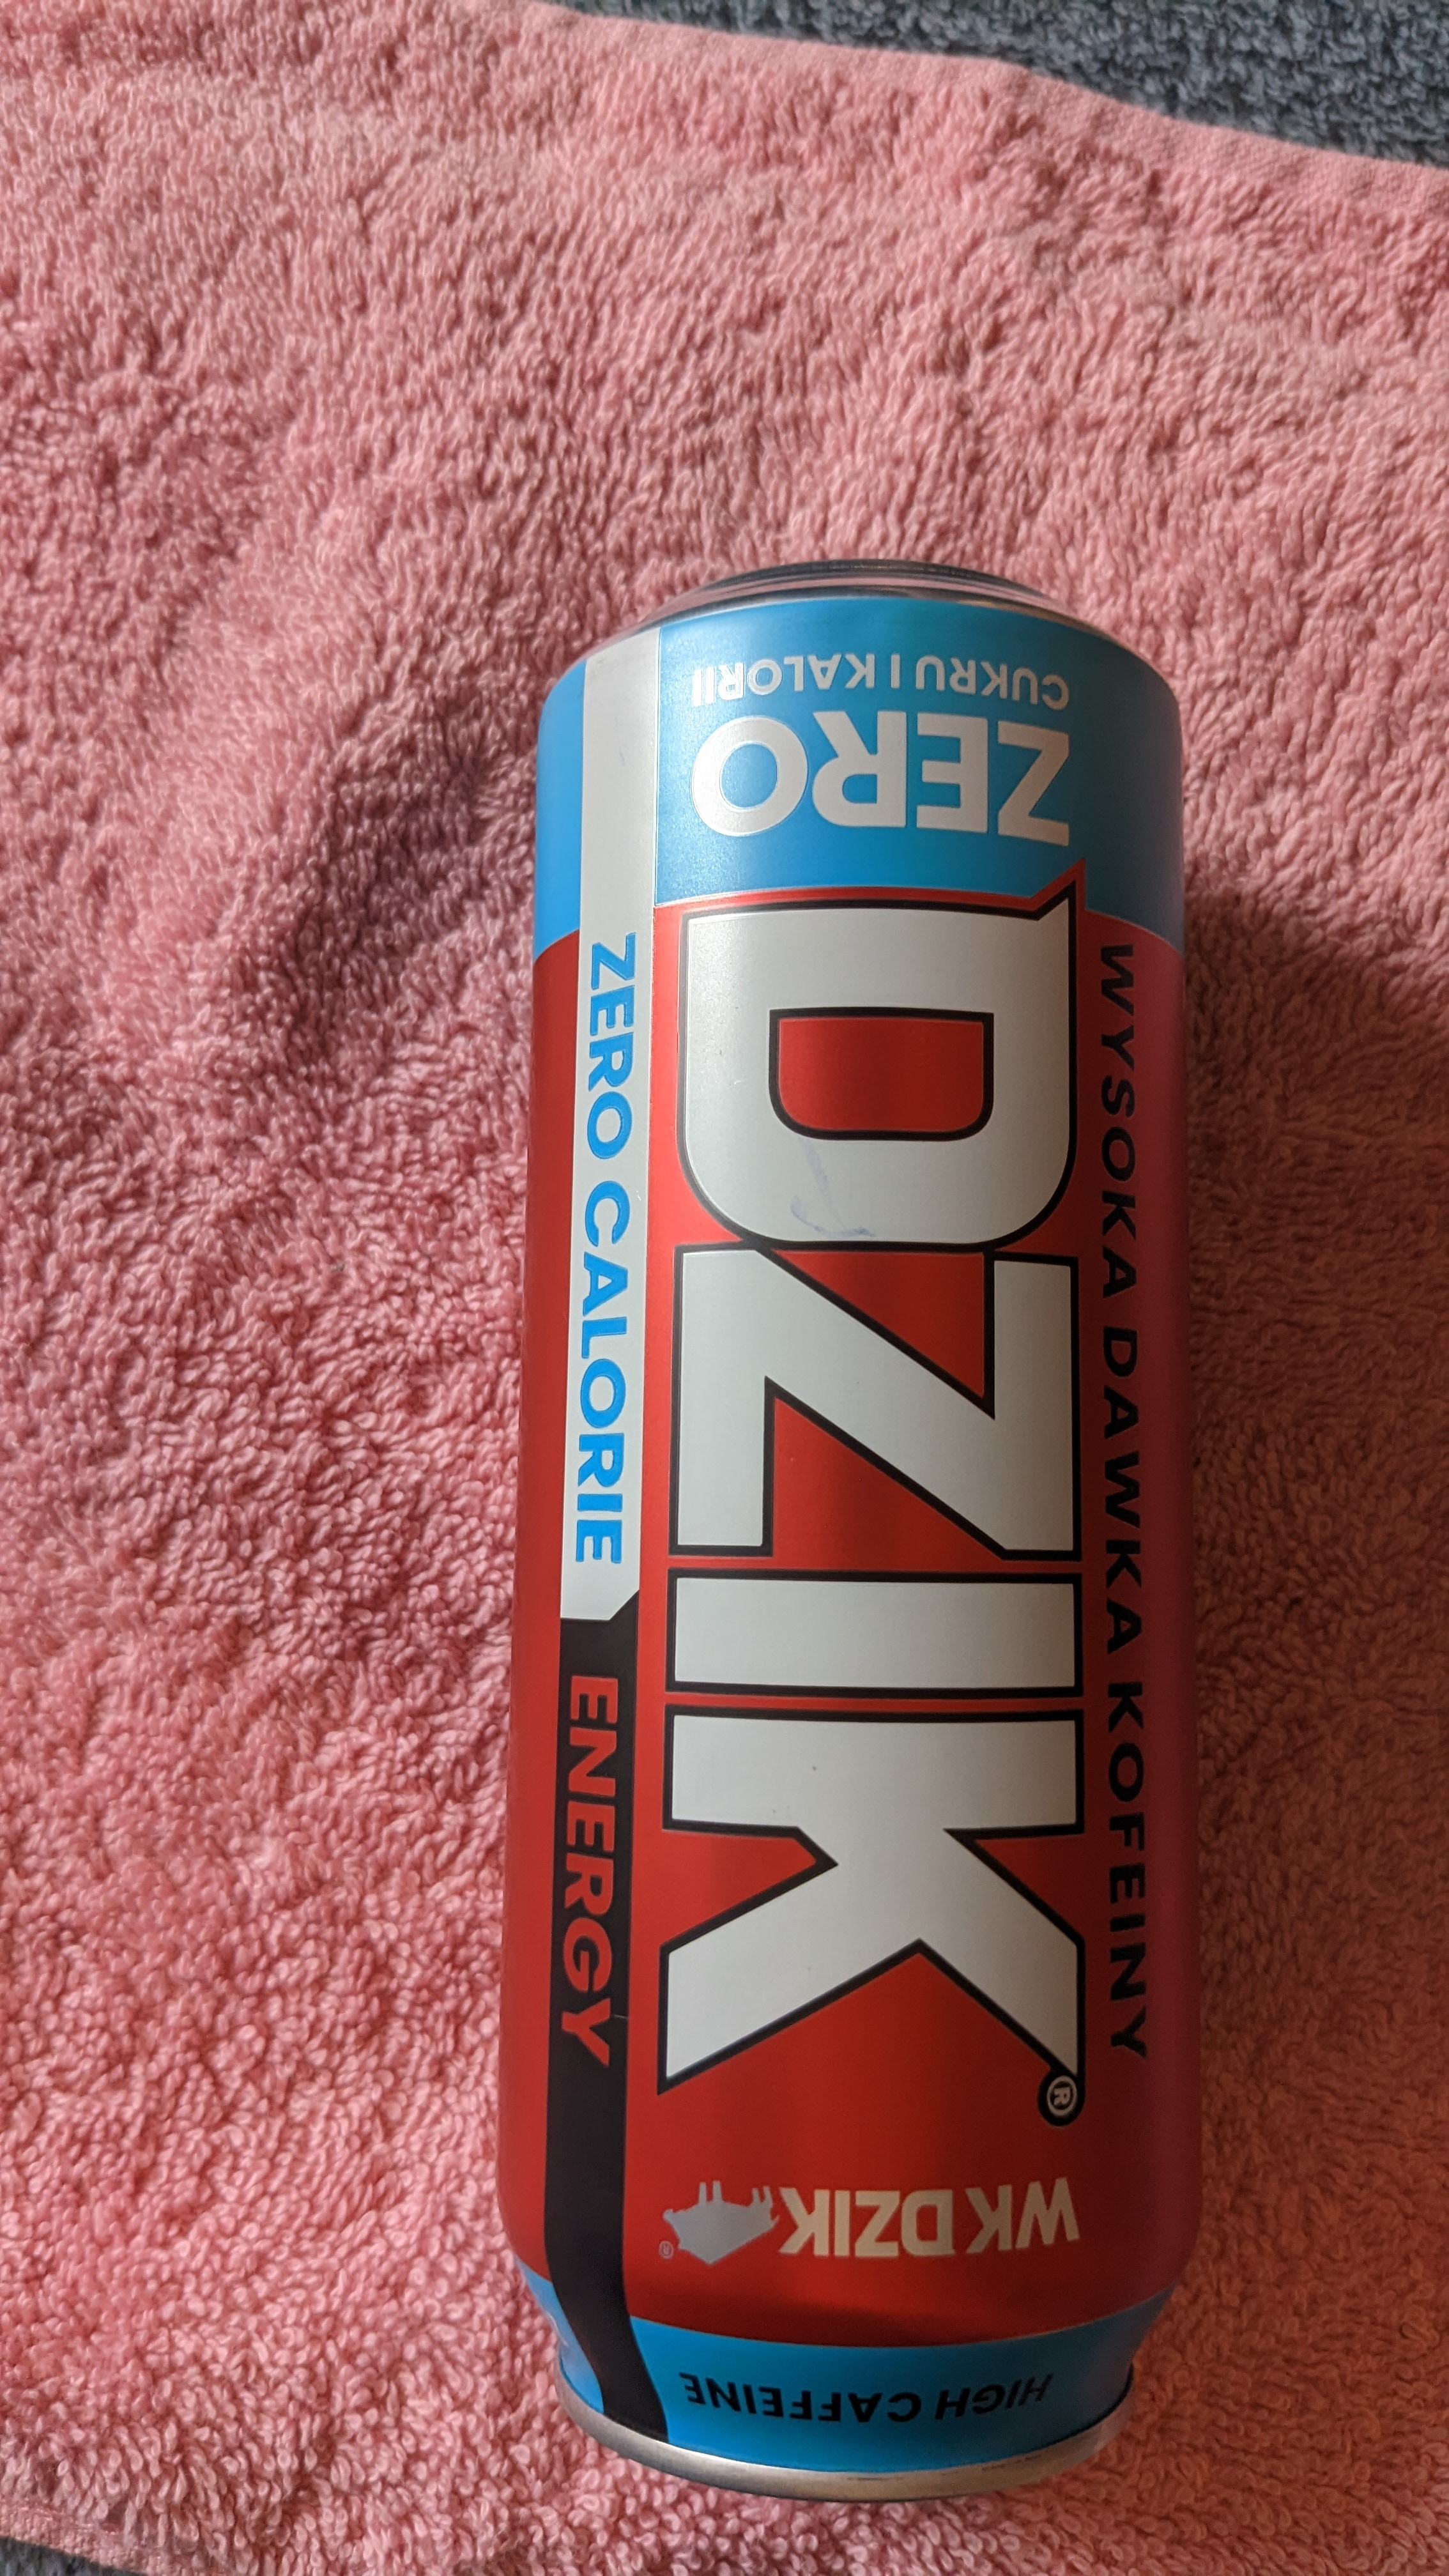dzik: (472, 552, 1198, 2516)
